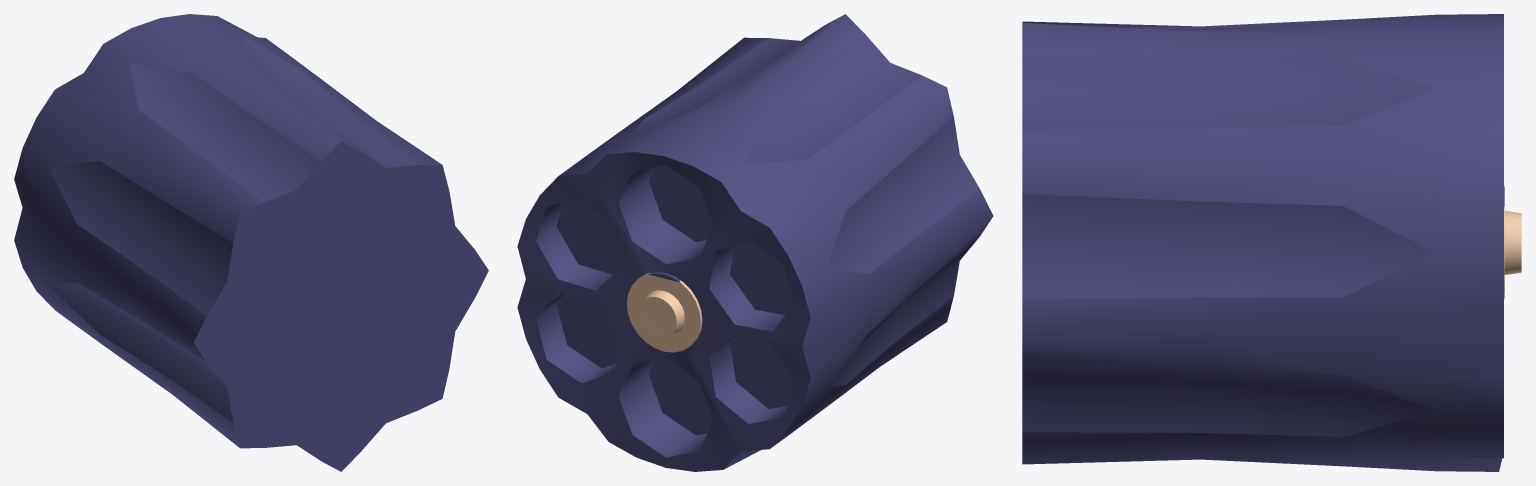
The model's file is Revolver Chamber_UV.fbx.
3 views of the same model, side by side, from view 1: azimuth 30°, elevation 25°; view 2: azimuth 150°, elevation 25°; view 3: azimuth 270°, elevation 25° (orthographic). The views are drawn at different scales.
Visible parts, largest first — view 1: Cylinder; view 2: Cylinder; view 3: Cylinder.
Part boxes in pixels (left/top/right/bottom): Cylinder: left=14, top=14, right=488, bottom=471; Cylinder: left=517, top=14, right=993, bottom=471; Cylinder: left=1022, top=14, right=1521, bottom=471.
Bounding box in the file's own units: 195 × 207 × 212.
